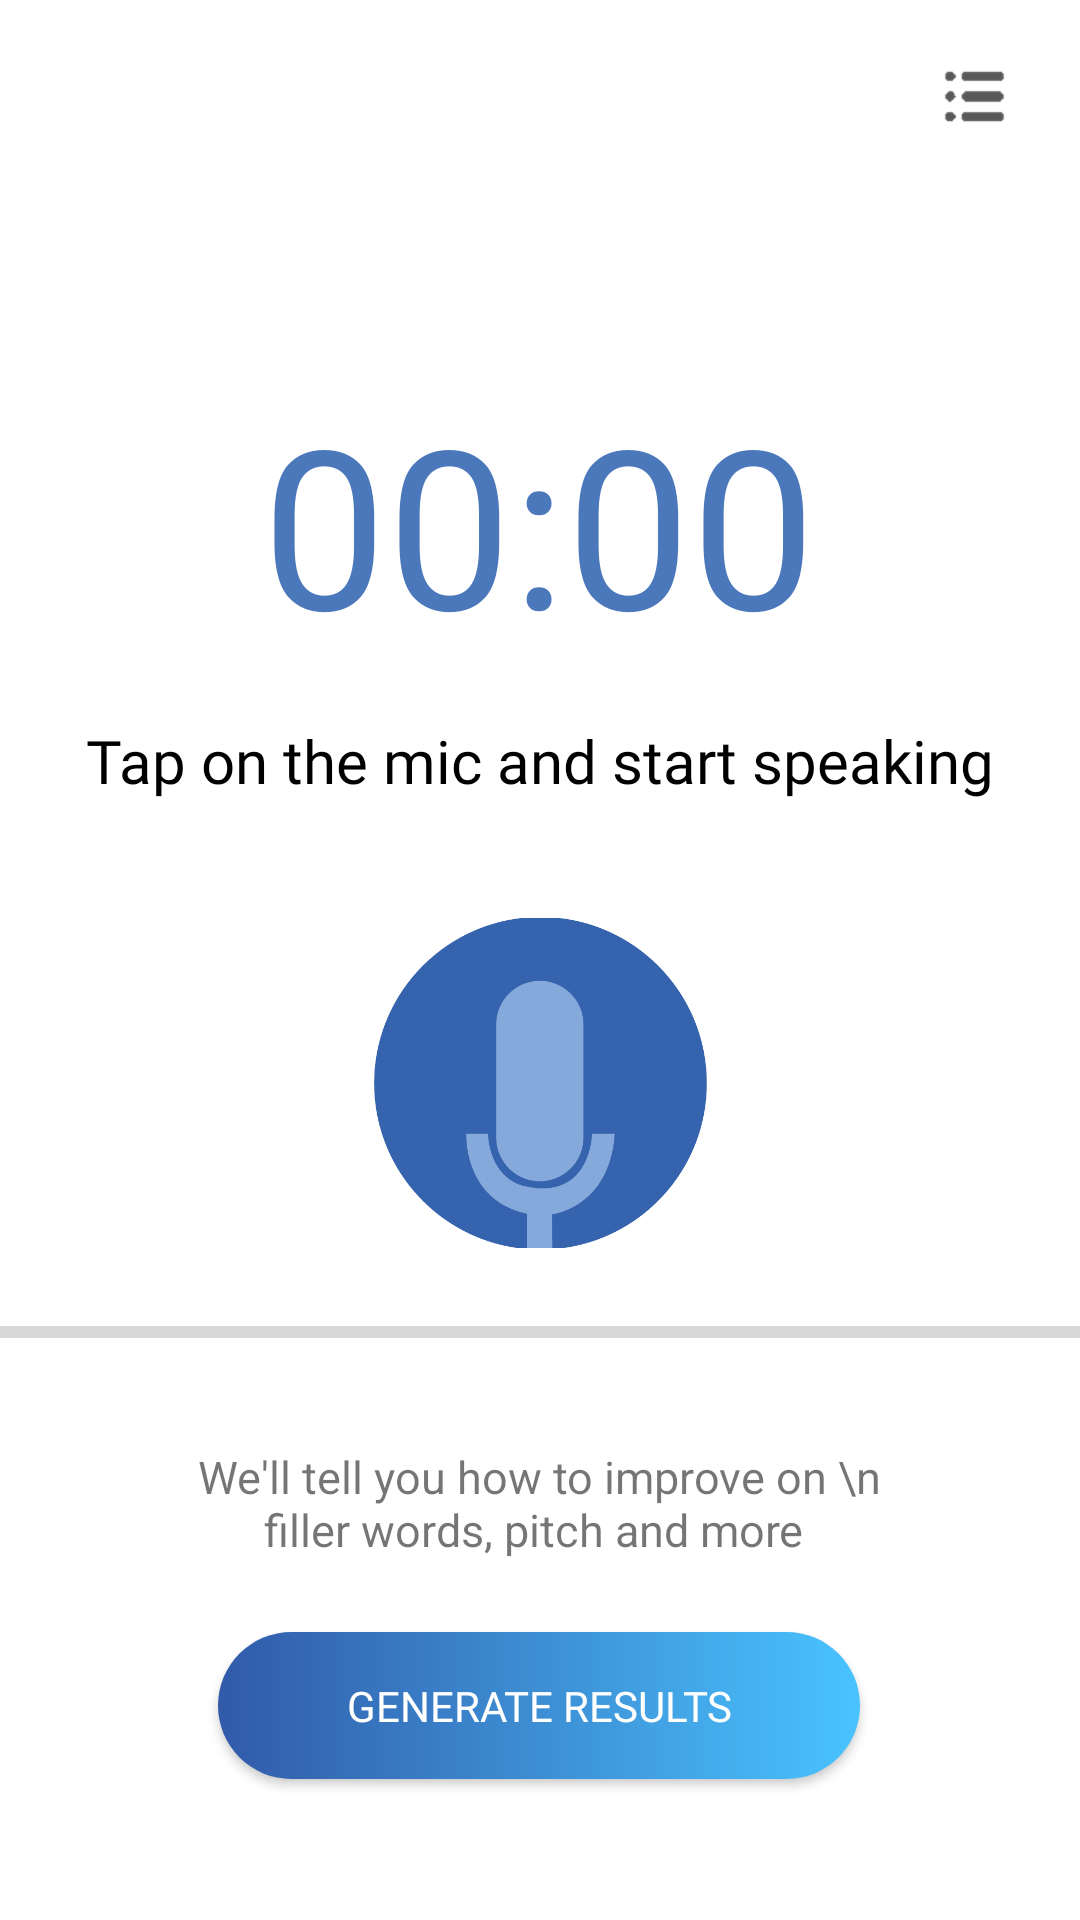

Where to tap for icons on this 1080px×1920px app screen, as (x=x, y=y):
microphone: (x=540, y=1083)
recorder list: (x=974, y=96)
